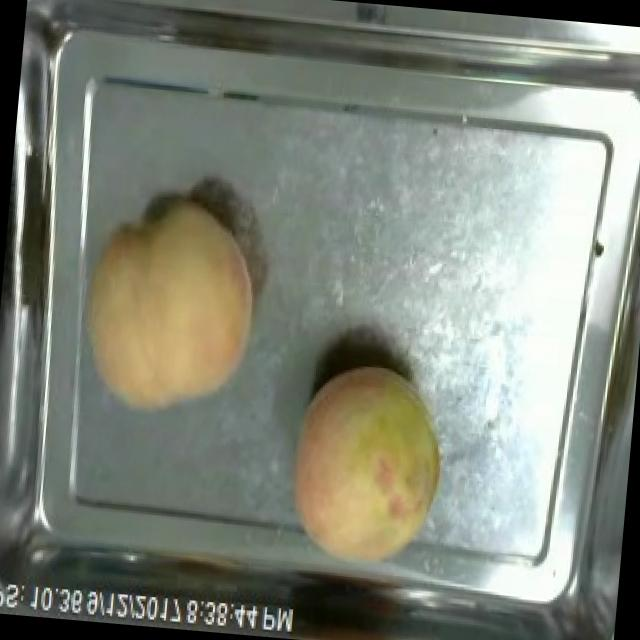Fruit: (67, 185, 274, 431), (272, 352, 460, 582)
